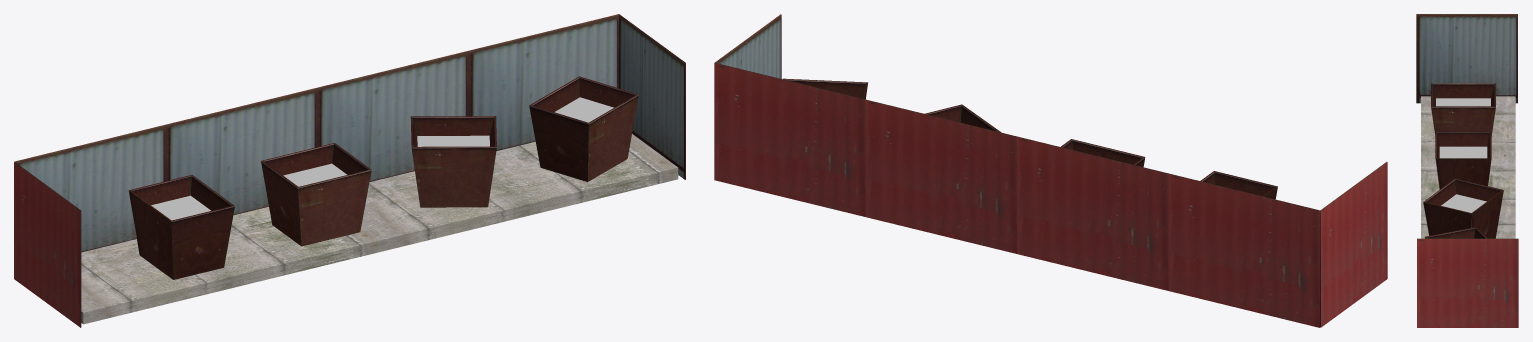
The model's file is basket.fbx.
3 renders of one model, left to right at view 1: azimuth 30°, elevation 25°; view 2: azimuth 150°, elevation 25°; view 3: azimuth 270°, elevation 25°, orthographic. The views are drawn at different scales.
Parts seen in each view (by area): view 1: floor, wall3, wall2, wall4, wall5, basket3, basket, basket4, wall6, basket2, wall; view 2: wall5, wall4, wall2, wall3, wall6, wall, basket4, basket3, basket, basket2; view 3: wall, wall6, floor, basket2, basket4, basket3, basket.
Boxes of the visible parts, left/top/right/bottom form: floor: left=81, top=134, right=678, bottom=324; wall3: left=317, top=51, right=468, bottom=181; wall2: left=468, top=14, right=619, bottom=150; wall4: left=166, top=88, right=316, bottom=215; wall5: left=14, top=124, right=165, bottom=252; basket3: left=261, top=143, right=371, bottom=246; basket: left=529, top=76, right=638, bottom=181; basket4: left=128, top=175, right=234, bottom=279; wall6: left=14, top=162, right=81, bottom=327; basket2: left=410, top=116, right=496, bottom=207; wall: left=619, top=14, right=685, bottom=179; wall5: left=1168, top=173, right=1320, bottom=327; wall4: left=1017, top=136, right=1168, bottom=290; wall2: left=714, top=63, right=865, bottom=216; wall3: left=865, top=99, right=1016, bottom=253; wall6: left=1320, top=162, right=1387, bottom=327; wall: left=715, top=14, right=781, bottom=78; basket4: left=1200, top=171, right=1277, bottom=199; basket3: left=1061, top=139, right=1145, bottom=167; basket: left=783, top=78, right=868, bottom=99; basket2: left=924, top=104, right=1001, bottom=132; wall: left=1417, top=238, right=1518, bottom=327; wall6: left=1416, top=14, right=1517, bottom=103; floor: left=1421, top=96, right=1515, bottom=238; basket2: left=1423, top=178, right=1503, bottom=238; basket4: left=1431, top=83, right=1495, bottom=135; basket3: left=1435, top=131, right=1491, bottom=189; basket: left=1424, top=227, right=1487, bottom=238.
Size of the model in its own units: 901 by 167 by 173.
